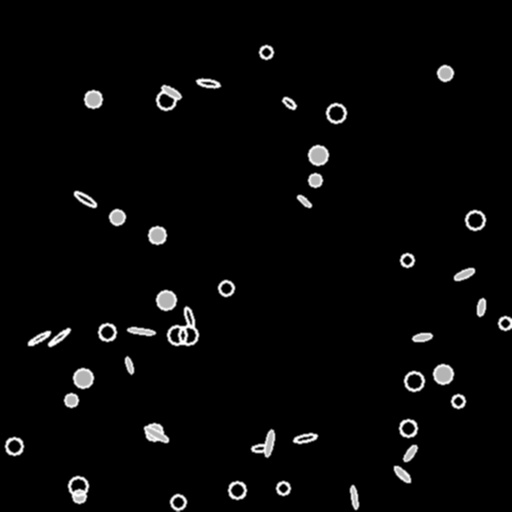pseudomonas: (47, 327, 71, 347), (143, 425, 169, 443), (72, 190, 98, 208), (27, 329, 51, 347), (393, 465, 411, 483), (402, 443, 418, 463), (161, 84, 181, 100), (263, 430, 275, 456), (453, 267, 475, 281), (183, 306, 195, 328), (294, 432, 316, 444), (281, 95, 297, 111), (296, 194, 312, 208), (197, 78, 219, 88), (128, 327, 154, 335), (476, 298, 486, 316), (350, 486, 358, 508), (124, 357, 134, 373), (251, 444, 269, 452), (413, 333, 431, 341)
synechocystis: (327, 104, 345, 122), (157, 91, 175, 109), (434, 365, 452, 383), (179, 326, 197, 344), (466, 211, 484, 229), (69, 477, 87, 495), (309, 146, 327, 164), (157, 291, 175, 309), (405, 372, 423, 390), (74, 369, 92, 387), (168, 326, 186, 344), (85, 91, 101, 107), (149, 227, 165, 243), (400, 420, 416, 436), (99, 324, 115, 340), (146, 424, 162, 440), (6, 438, 22, 454), (229, 482, 245, 498), (171, 495, 185, 509), (438, 66, 452, 80), (219, 281, 233, 295), (110, 210, 124, 224), (65, 394, 77, 406), (309, 174, 321, 186), (277, 482, 289, 494), (452, 395, 464, 407), (73, 490, 85, 502), (401, 254, 413, 266), (260, 46, 272, 58), (499, 317, 511, 329)
